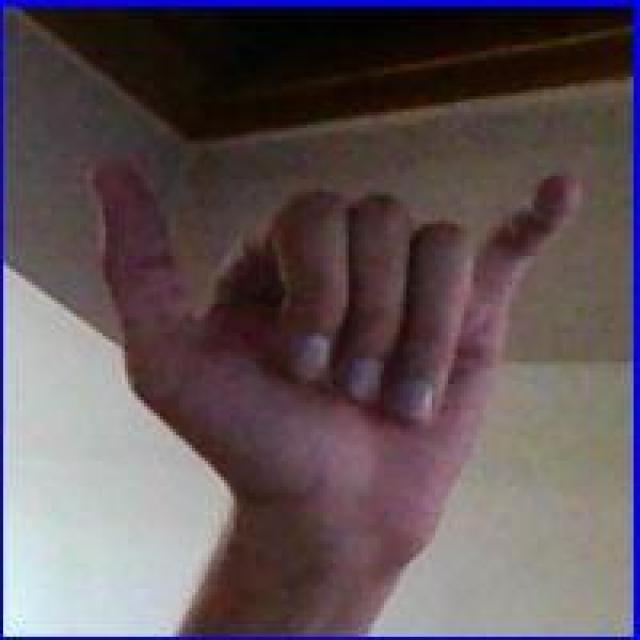Y: (85, 154, 590, 512)
